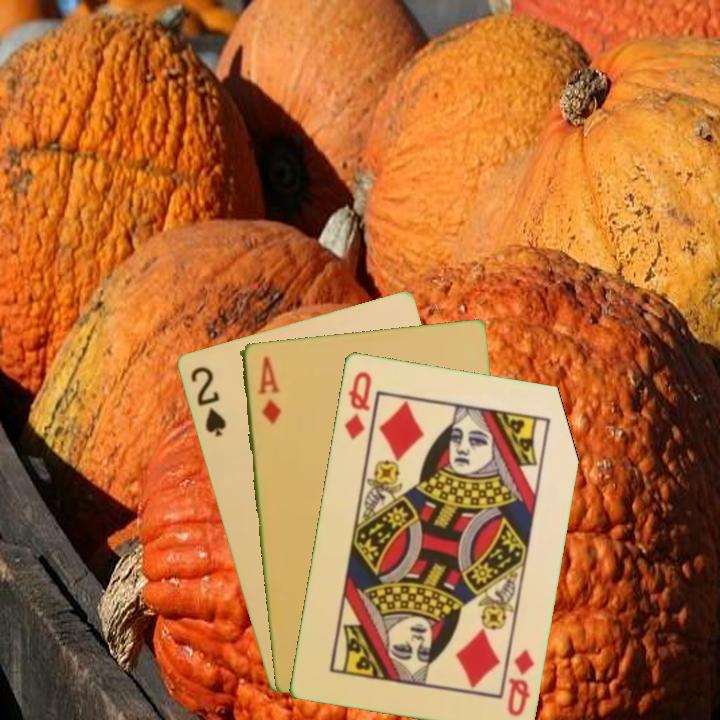2s: (186, 362, 229, 440)
Ad: (253, 352, 284, 427)
Qd: (340, 367, 374, 443), (503, 645, 537, 719)
